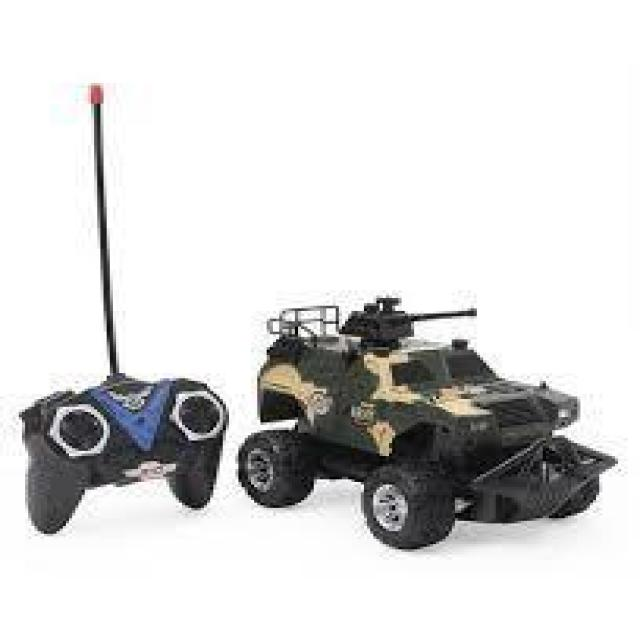Tanks: (239, 293, 621, 575)
